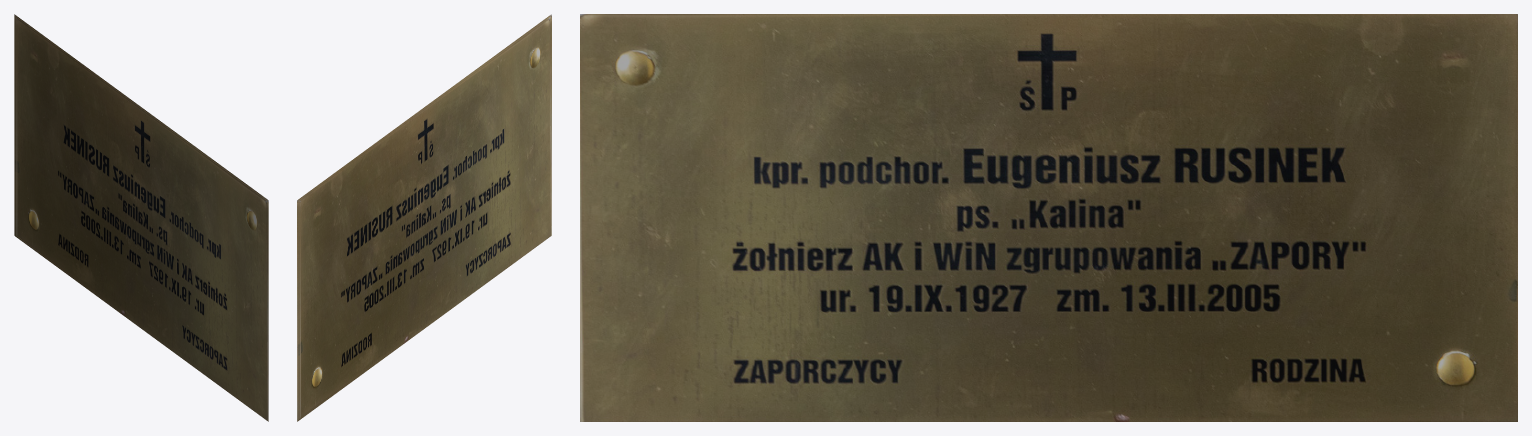
Rendered from 64. kpr. podchor. EUGENIUSZ RUSINEK.glb.
3 renders of one model, left to right at view 1: azimuth 30°, elevation 25°; view 2: azimuth 150°, elevation 25°; view 3: azimuth 270°, elevation 25°, orthographic. The views are drawn at different scales.
Parts seen in each view (by area): view 1: Plane; view 2: Plane; view 3: Plane.
Boxes of the visible parts, x1,y1,x2,y2 form: Plane: (14,14,268,421); Plane: (297,14,551,421); Plane: (580,14,1517,421).
Size of the model in its own units: 0.0102 by 12 by 25.
1 material, 1 textured.
